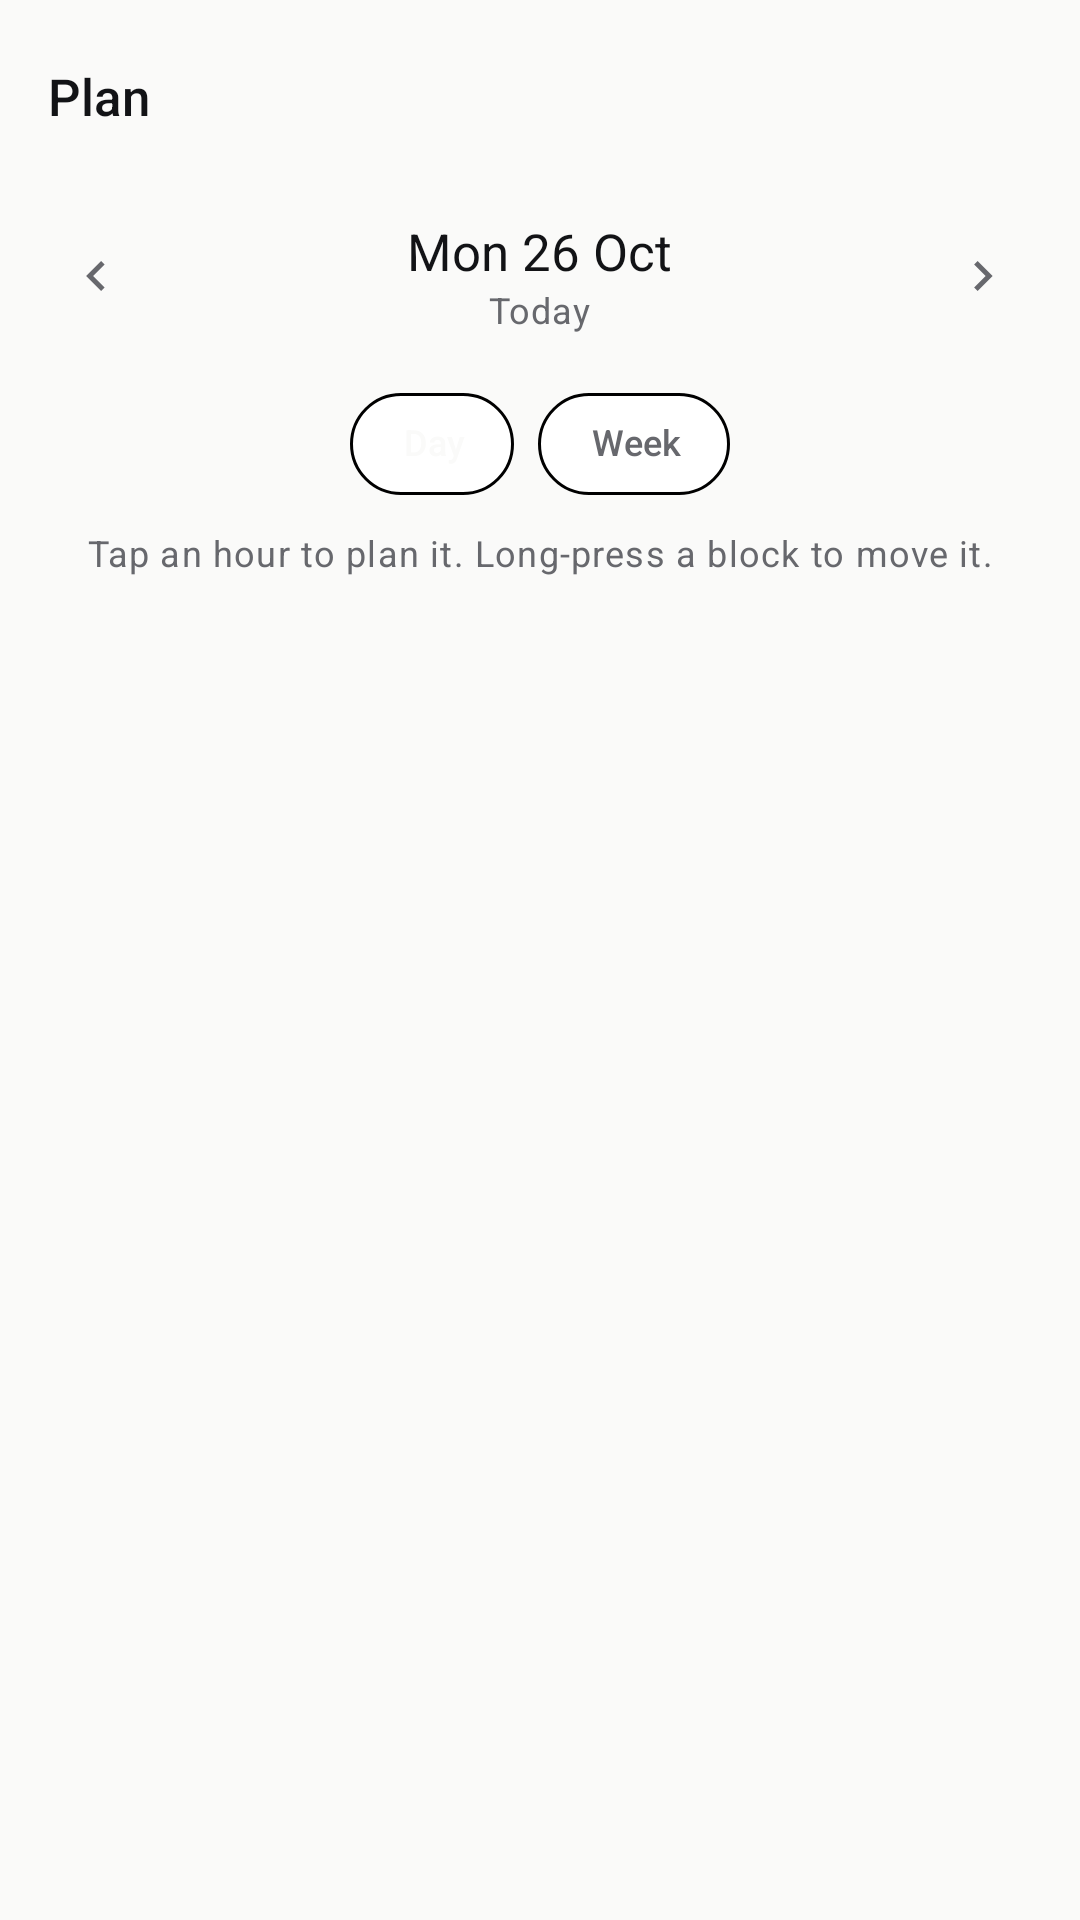

Icon click points for this 1080px×1920px phone screenshot, format (x,y):
Next day: (983,276)
Previous day: (95,276)
